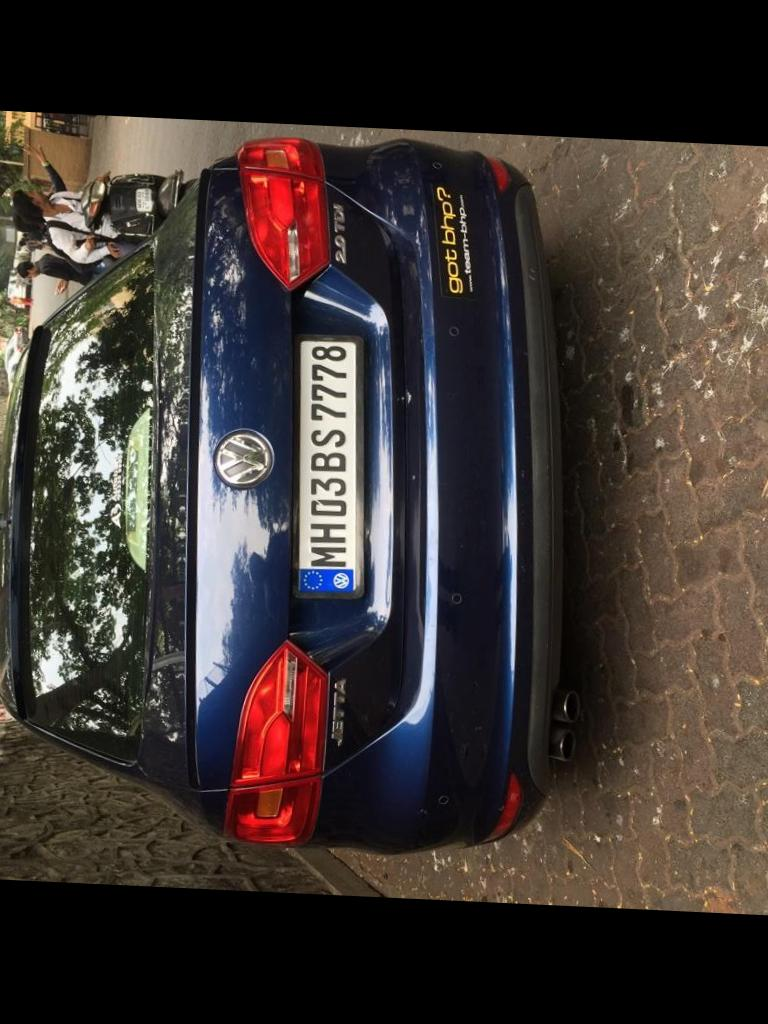plate: (290, 320, 376, 607)
